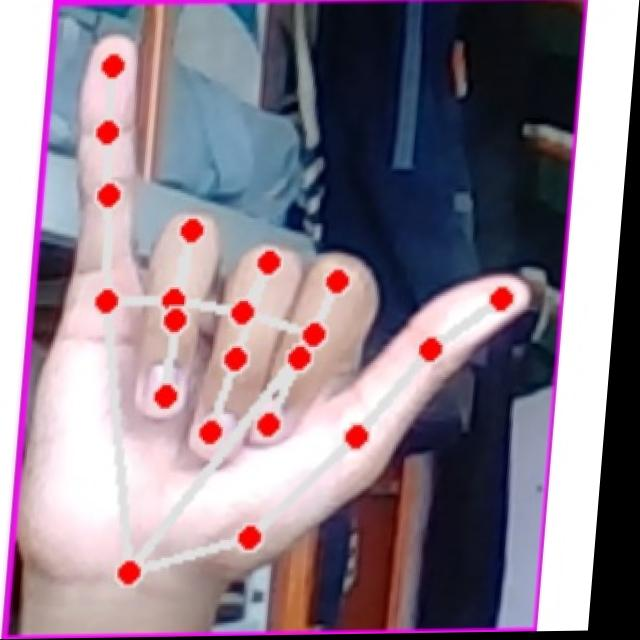Y: (29, 32, 562, 595)
